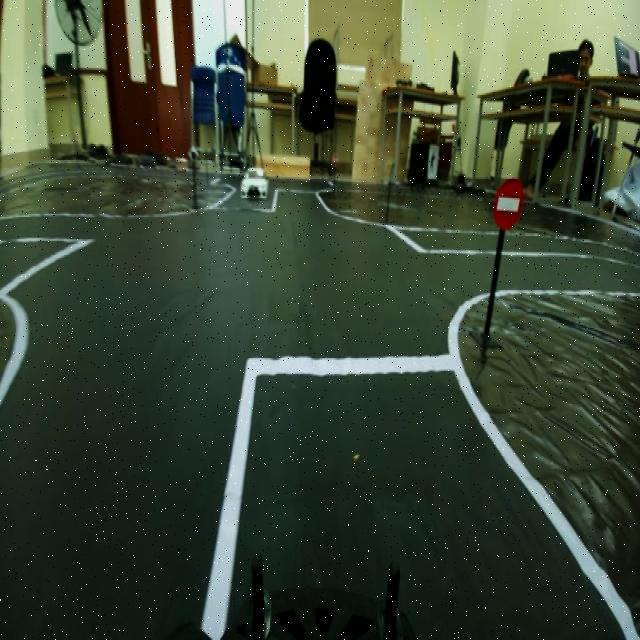car: (237, 157, 271, 206)
no_entry: (484, 170, 528, 242)
